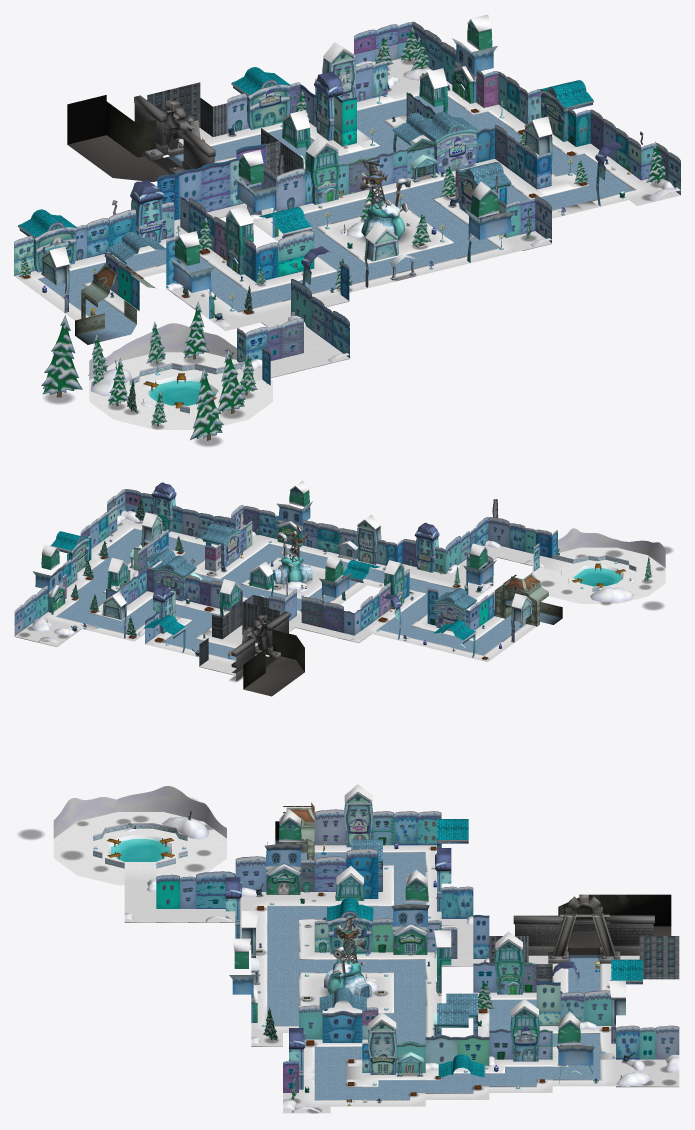
File: polar_place.glb
The picture shows the model from 3 angles, top to bottom: view 1: azimuth 30°, elevation 25°; view 2: azimuth 150°, elevation 25°; view 3: azimuth 270°, elevation 25°; orthographic projection. The views are drawn at different scales.
Parts seen in each view (by area): view 1: o296 (×4), o184 (×4), bldg_back (×4), o190 (×4), outside_ground, building_back (×4), street_40x40_street (×5), s_tunnel_walls, tunnel_floor_1, p285_2__billboard (×2), street_double_corner_sidewalk (×2), BR_B3_front (×2) (+19 smaller); view 2: o296 (×4), street_full_corner_street (×8), outside_ground, o190 (×3), building_back (×4), o184 (×4), bldg_back (×4), BR_B3_front (×3), street_full_corner_sidewalk (×5), street_40x40_street (×4), outside_fence, street_tight_corner_street (×3) (+18 smaller); view 3: o296 (×4), wall_md_blank_ur (×8), outside_ground, bldg_back (×4), o184 (×4), outside_fence, street_full_corner_street (×4), street_tight_corner_street (×3), building_back (×3), wall_lg_brick_ur (×4), street_40x40_street (×3), street_tight_corner_sidewalk (×3) (+22 smaller).
Boxes of the visible parts, x1,y1,x2,y2 form: o296 (×4): (169,14,514,318); o184 (×4): (17,67,593,272); bldg_back (×4): (225,68,447,275); o190 (×4): (108,111,511,264); outside_ground: (89,352,272,429); building_back (×4): (41,42,552,312); street_40x40_street (×5): (265,199,468,301); s_tunnel_walls: (67,95,150,157); tunnel_floor_1: (67,135,178,181); p285_2__billboard (×2): (41,301,208,397); street_double_corner_sidewalk (×2): (198,168,680,330); BR_B3_front (×2): (130,71,343,247); o296 (×4): (33,480,496,612); street_full_corner_street (×8): (57,541,500,654); outside_ground: (532,547,665,603); o190 (×3): (153,523,476,628); building_back (×4): (102,512,531,642); o184 (×4): (50,531,476,657); bldg_back (×4): (107,558,404,616); BR_B3_front (×3): (152,482,439,633); street_full_corner_sidewalk (×5): (40,536,511,662); street_40x40_street (×4): (226,557,525,647); outside_fence: (558,528,665,567); street_tight_corner_street (×3): (70,542,135,607); o296 (×4): (229,809,594,1083); wall_md_blank_ur (×8): (156,817,679,1066); outside_ground: (53,812,226,884); bldg_back (×4): (335,866,539,1061); o184 (×4): (326,819,642,1080); outside_fence: (53,786,226,838); street_full_corner_street (×4): (314,852,600,1079); street_tight_corner_street (×3): (362,1067,552,1099); building_back (×3): (344,784,625,1074); wall_lg_brick_ur (×4): (394,816,639,1059); street_40x40_street (×3): (267,926,425,1006); street_tight_corner_sidewalk (×3): (362,1059,552,1106).
Size of the model in its own units: 480 by 62.61 by 421.
276 materials, 269 textured.
